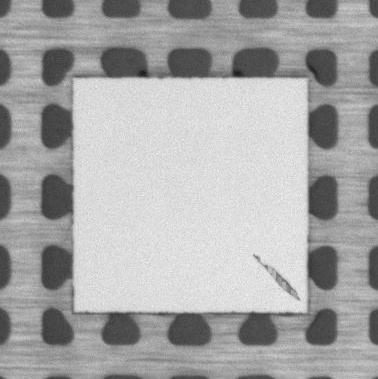DIE_INK: (252, 251, 300, 301)
